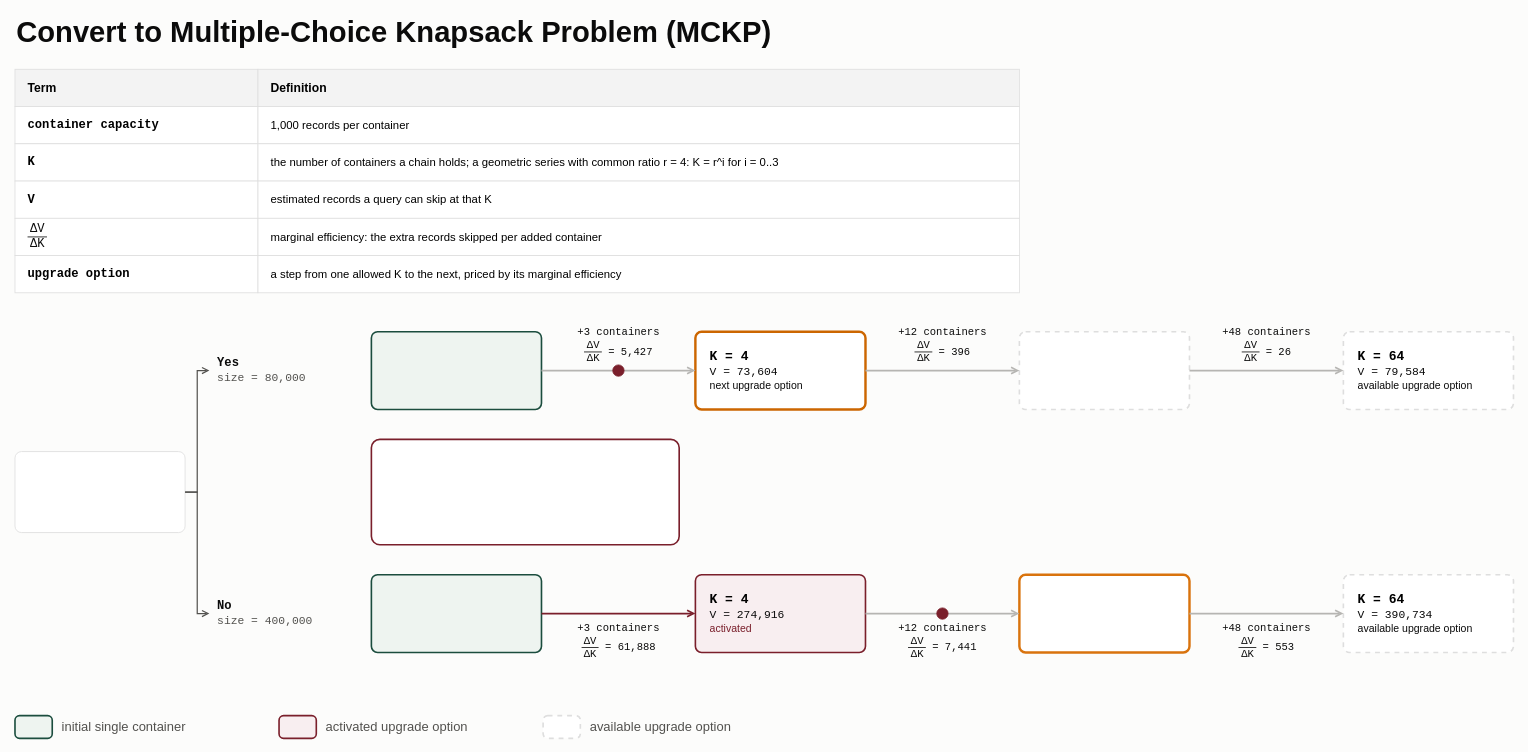
The diagram is 1528 pixels wide and 752 high, and some of its shapes have lost their labels. The centre of each missing label's shape, as x and y in pixels:
"K = 1 V = 57,323 Initial single container" belongs at [456,370].
"K = 1 V = 89,252 Initial single container" belongs at [456,613].
"K = 16 V = 364,204 next upgrade option" belongs at [1104,613].
"K = 16 V = 78,351 available upgrade option" belongs at [1104,370].
"price_tier > 5 size = 480,000" belongs at [99,492].
"the two pending steps compared No: K = 4 -> K = 16 wins ΔV ΔK 7,441 > 5,427" belongs at [525,491].
